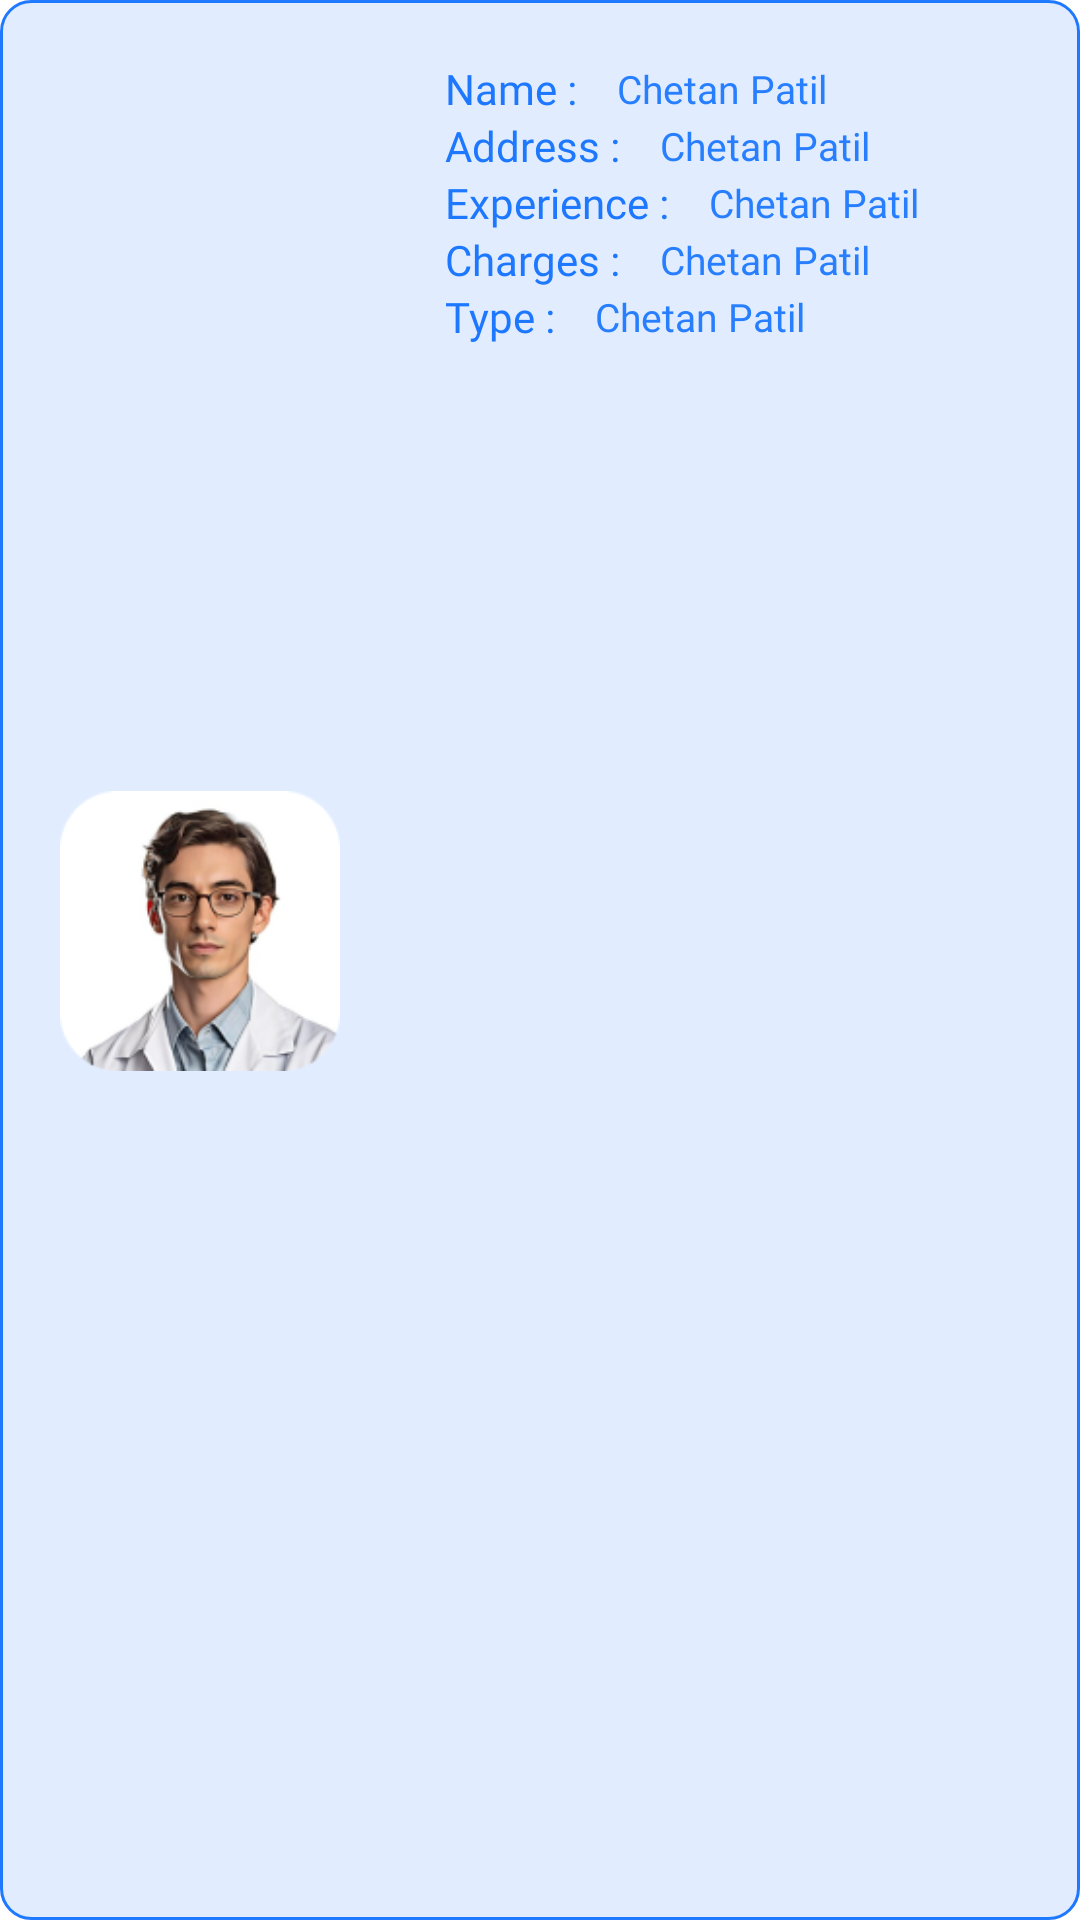

Named icons in this screenshot (1080 × 1920) and their bounding boxes, (x1, y1, x2, y2):
bacdocterbg: (60, 791, 340, 1071)
